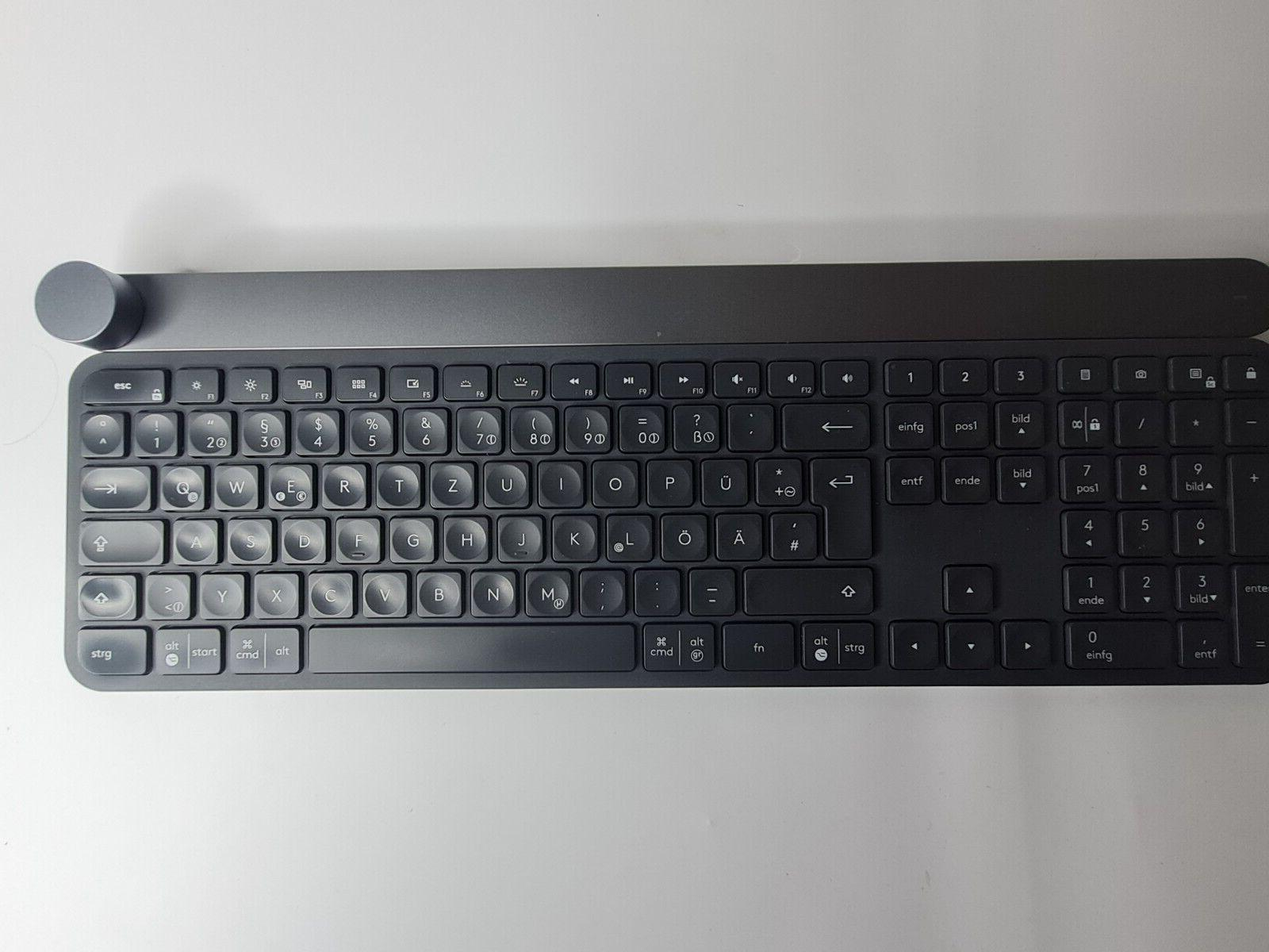0: (615, 401, 665, 451)
1: (132, 407, 176, 452)
2: (186, 405, 232, 454)
3: (240, 405, 286, 453)
4: (294, 405, 339, 451)
5: (346, 404, 394, 452)
6: (401, 403, 450, 452)
7: (454, 403, 504, 451)
8: (508, 402, 558, 451)
9: (562, 401, 611, 451)
a: (172, 513, 217, 560)
accent: (723, 399, 773, 448)
ae: (712, 508, 761, 559)
alt-left: (155, 625, 231, 674)
altgr-right: (641, 622, 718, 674)
b: (413, 566, 462, 613)
c: (306, 567, 354, 614)
caret: (80, 409, 122, 452)
comma: (576, 564, 624, 613)
d: (280, 512, 325, 560)
del: (779, 398, 869, 449)
e: (266, 459, 314, 507)
enter: (807, 453, 870, 558)
f: (334, 512, 381, 560)
g: (387, 511, 434, 560)
h: (441, 510, 489, 559)
hash: (766, 508, 816, 558)
i: (535, 455, 583, 504)
j: (495, 509, 542, 560)
k: (549, 509, 597, 559)
keyboard: (58, 337, 1267, 693)
l: (603, 509, 652, 560)
less: (144, 568, 190, 616)
m: (521, 565, 571, 614)
minus: (684, 564, 734, 613)
n: (468, 565, 517, 613)
o: (588, 455, 638, 505)
oe: (658, 509, 707, 559)
p: (643, 455, 692, 504)
plus: (753, 454, 802, 504)
point: (631, 564, 680, 613)
q: (158, 460, 205, 508)
r: (320, 459, 366, 506)
s: (226, 513, 271, 560)
shift-left: (75, 570, 136, 616)
shift-lock: (76, 514, 162, 562)
shift-right: (741, 562, 872, 612)
space: (304, 619, 635, 671)
ss: (669, 400, 720, 450)
strg-left: (73, 622, 147, 674)
strg-right: (802, 617, 876, 671)
t: (374, 457, 420, 505)
tab: (78, 461, 149, 508)
u: (481, 456, 530, 505)
ue: (697, 455, 747, 504)
v: (360, 566, 407, 613)
w: (213, 459, 259, 506)
x: (254, 567, 299, 614)
y: (197, 567, 244, 616)
z: (427, 456, 475, 506)
